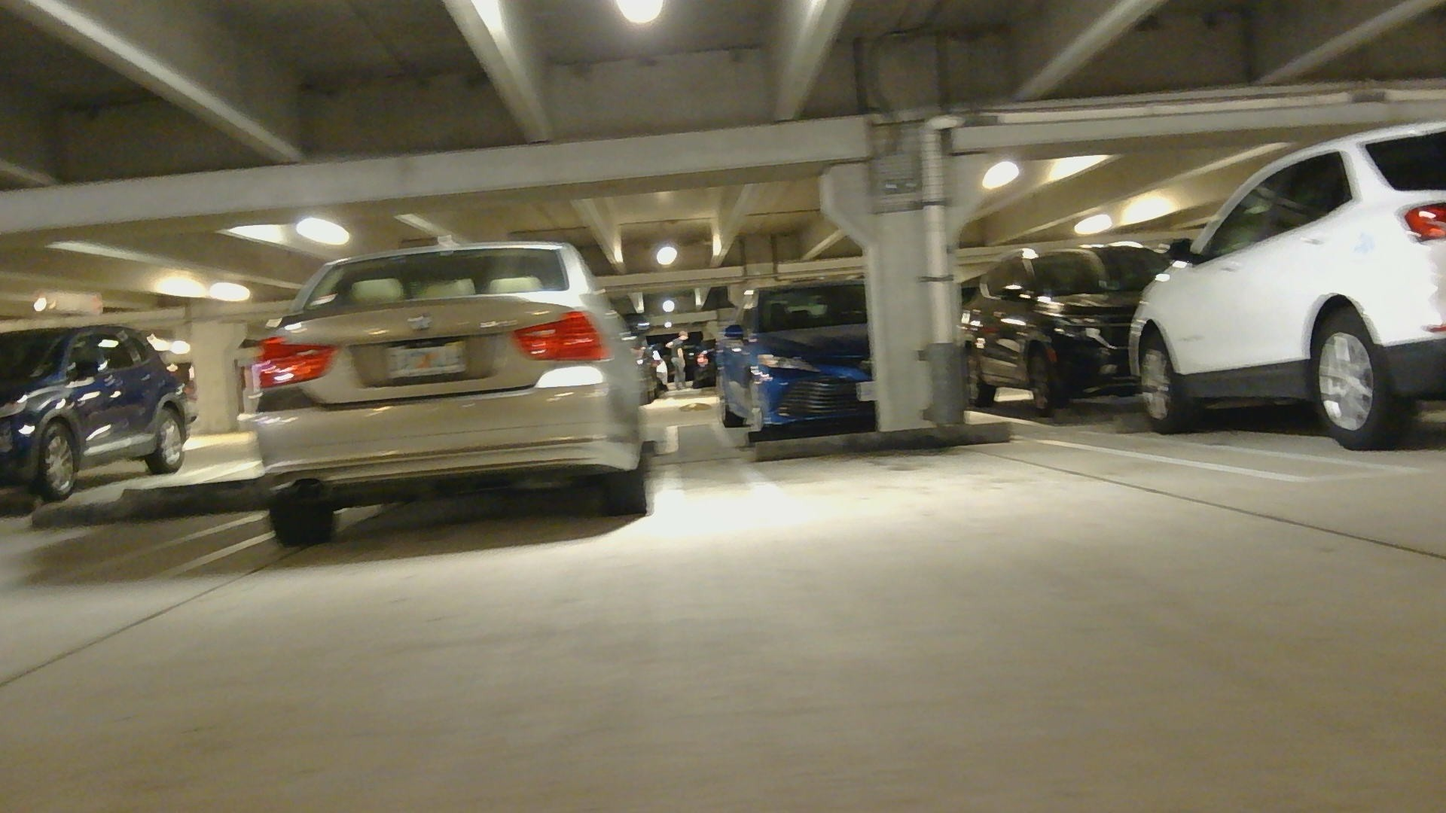empty_spot: (718, 398, 1327, 537), (0, 474, 315, 604)
occupied_spot: (224, 221, 673, 573), (1126, 114, 1445, 458)
